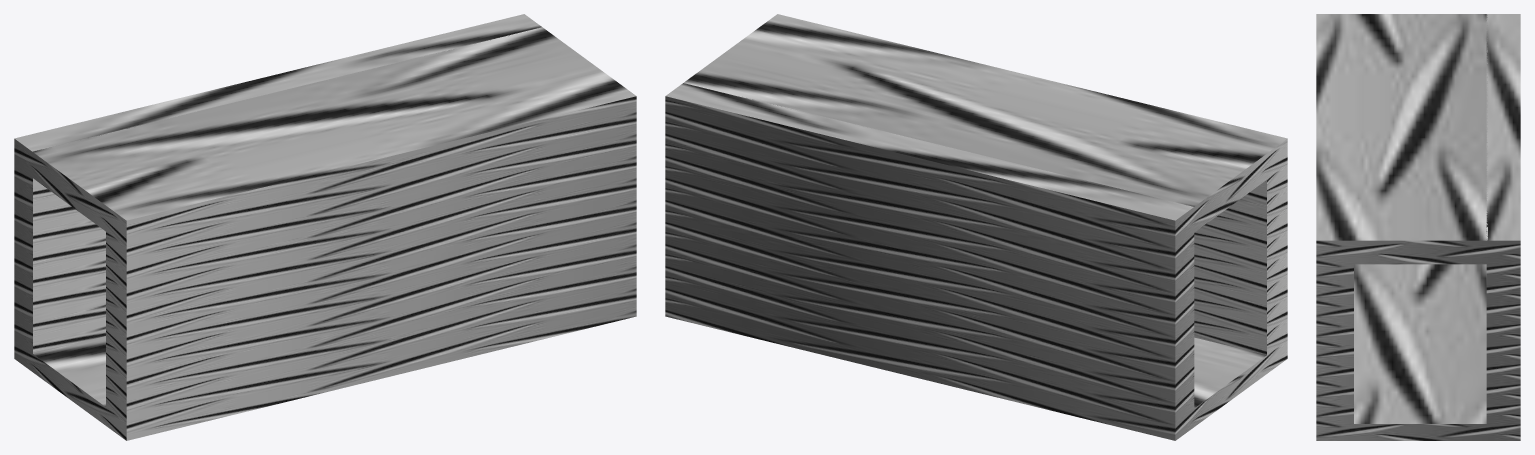
File: haallway.fbx
3 renders of one model, left to right at view 1: azimuth 30°, elevation 25°; view 2: azimuth 150°, elevation 25°; view 3: azimuth 270°, elevation 25°, orthographic. The views are drawn at different scales.
Visible parts, largest first — view 1: Cube; view 2: Cube; view 3: Cube.
Part boxes in pixels (left/top/right/bottom): Cube: left=14, top=14, right=636, bottom=440; Cube: left=665, top=14, right=1287, bottom=440; Cube: left=1316, top=14, right=1520, bottom=440.
Size of the model in its own units: 2356 by 972 by 898.
